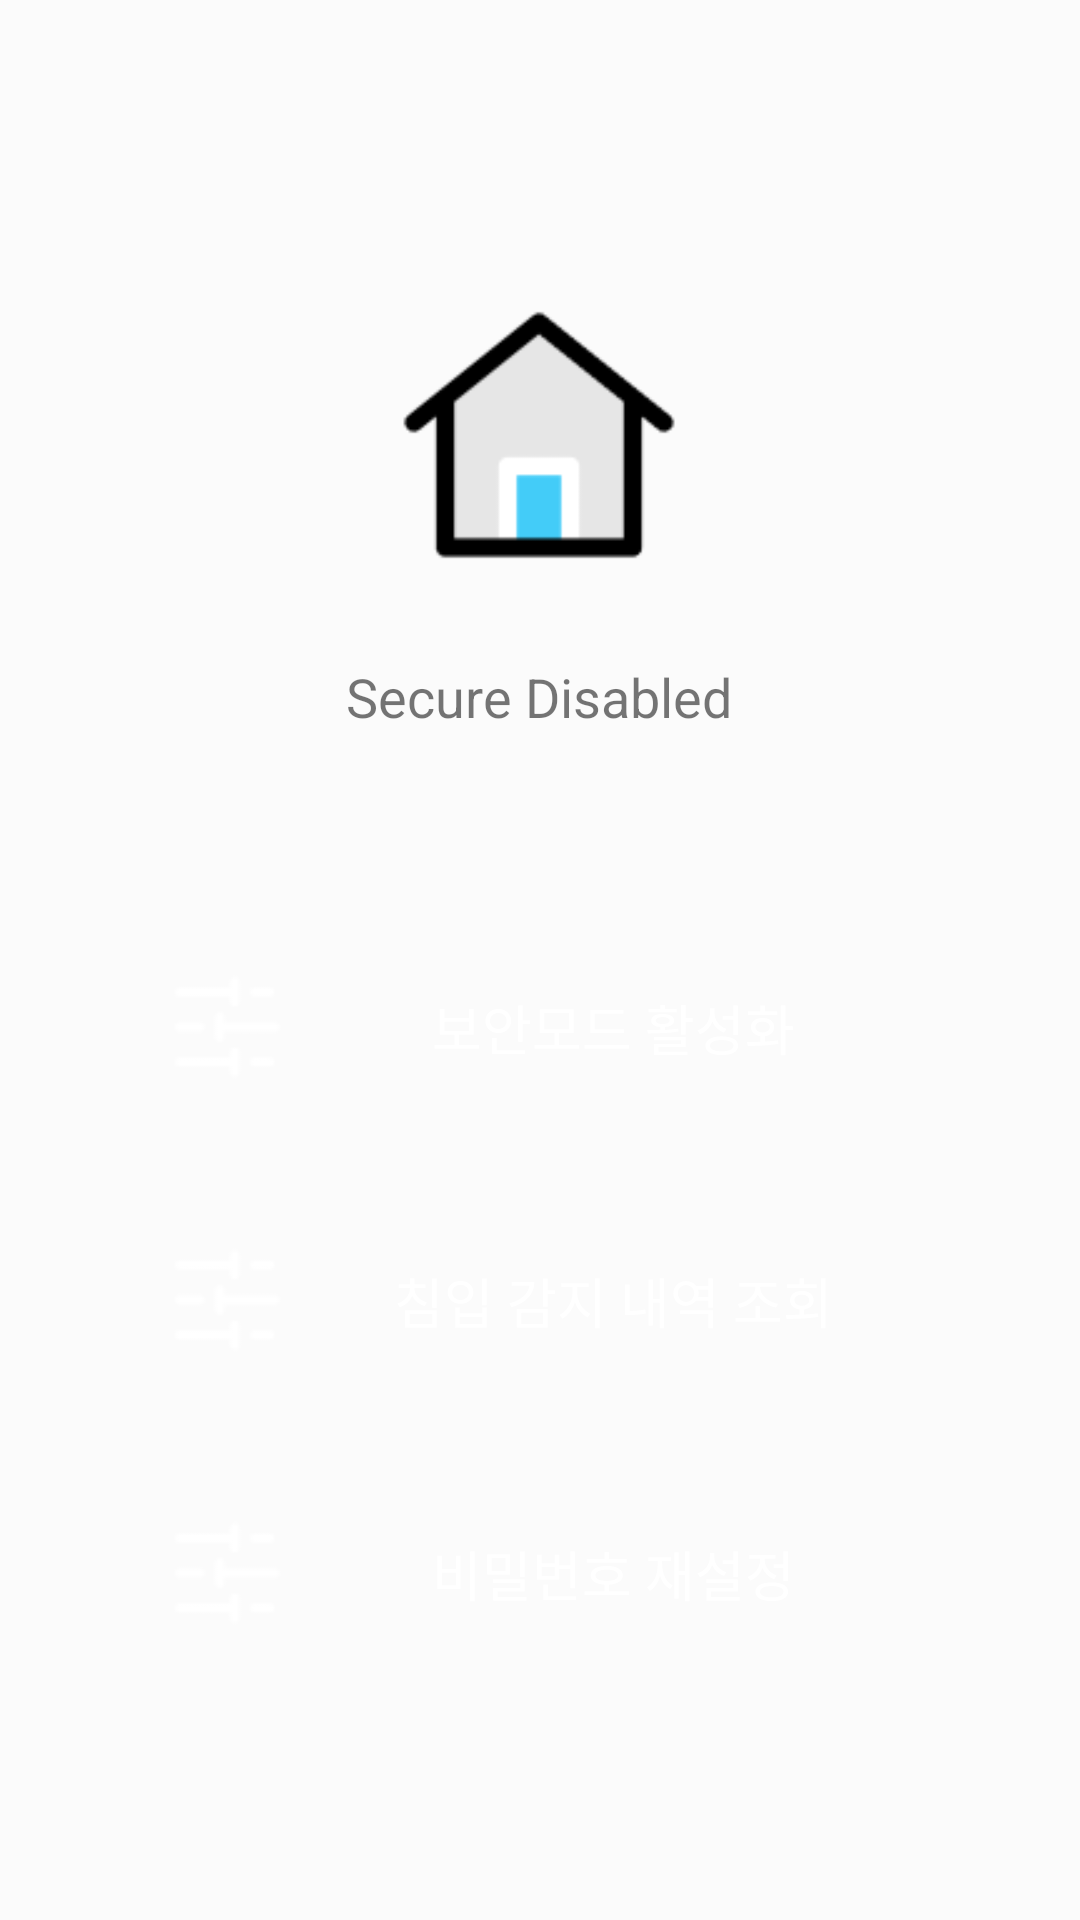

Named icons in this screenshot (1080px x 1920px) and their bounding boxes, Rect(x1, y1, x2, y2):
home: Rect(403, 312, 675, 558)
